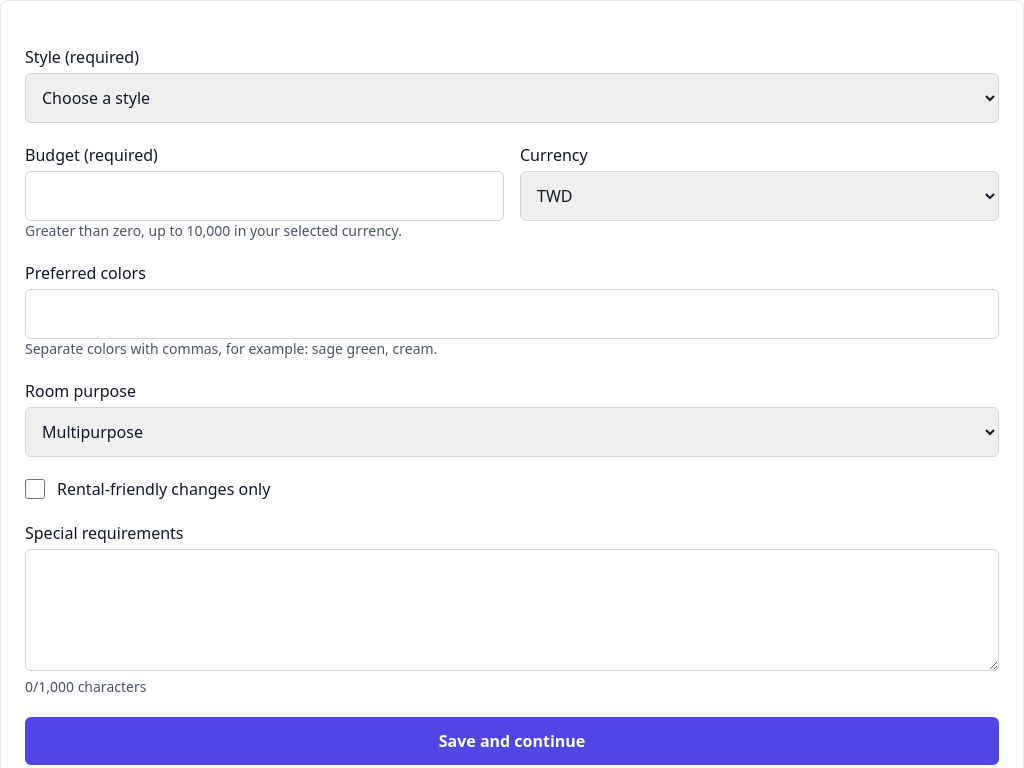
Scenario: preference form › preserves input and shows server field validation after failure
Select "Scandinavian" in the dropdown labelled "Style (required)" at coordinates (512, 98), box [25,73,999,123]
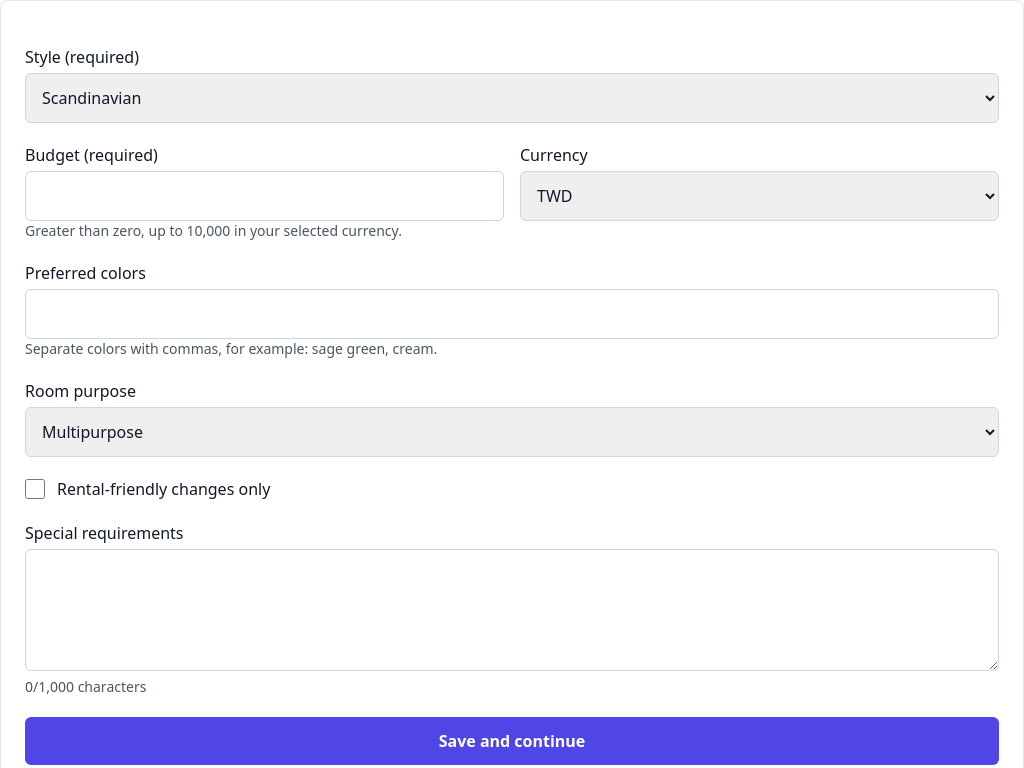
Type "9000" into the field labelled "Budget (required)" at coordinates (264, 196), box [25,171,504,221]
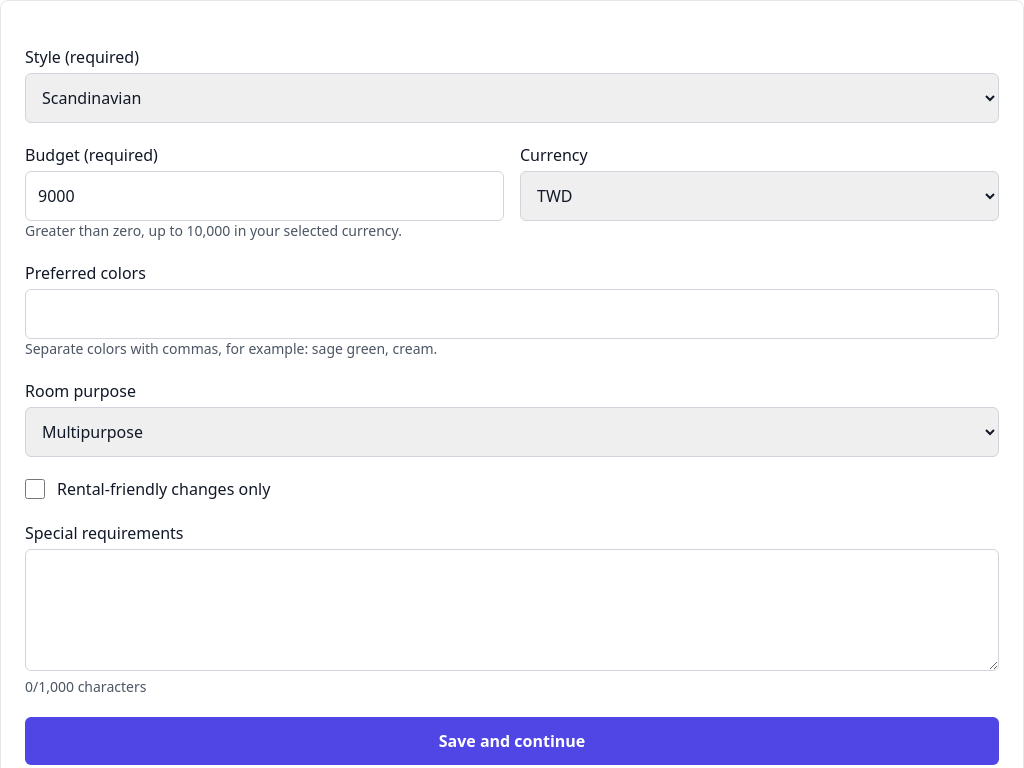
Click the button "Save and continue" at coordinates (512, 741), box [25,717,999,765]
(page scrolled)
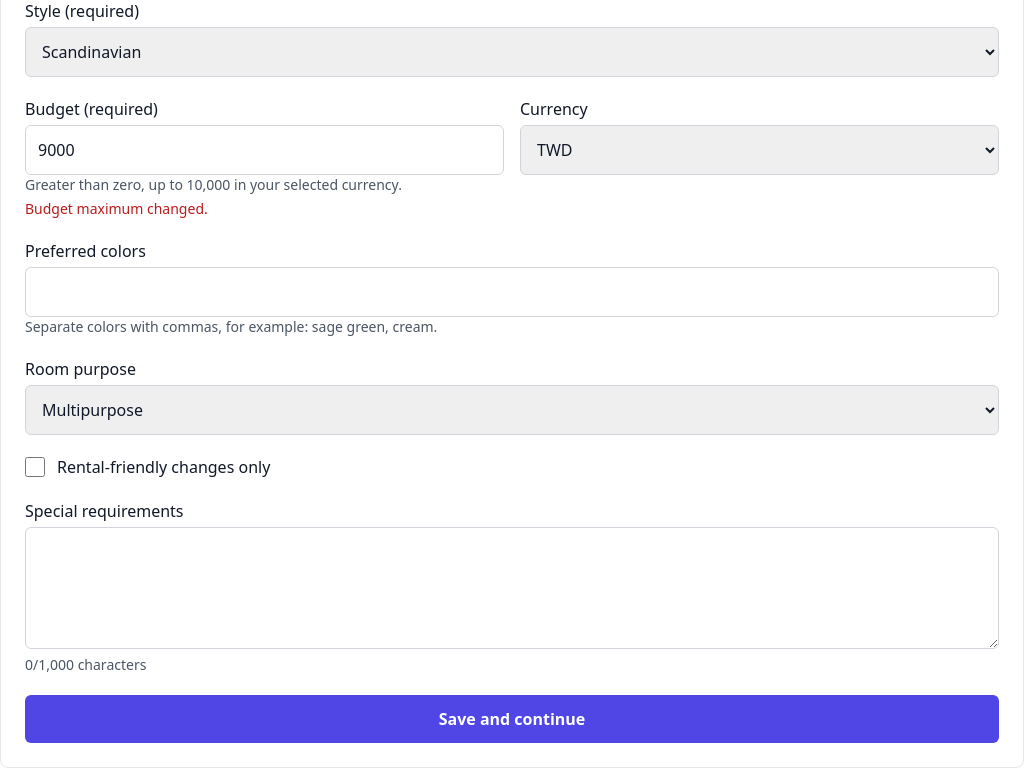
Expected: the button "Save and continue" is enabled, [25,695,999,743]
Result: the text "Budget maximum changed." is shown at [25,199,208,218]
